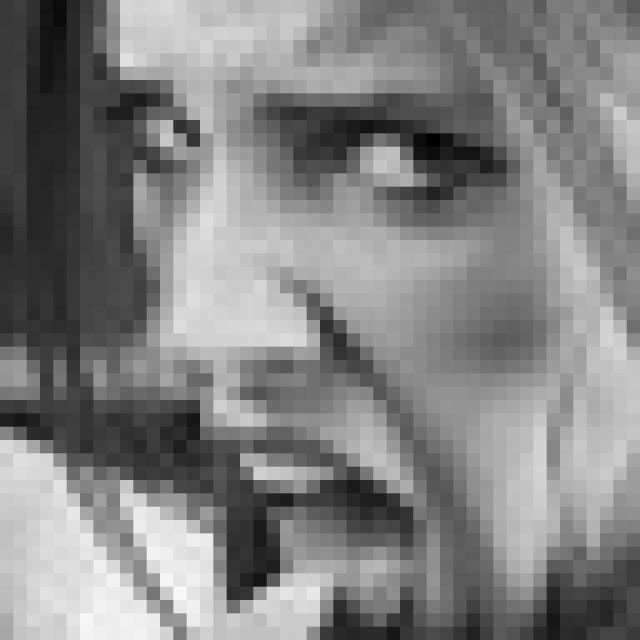disgust: (132, 68, 528, 640)
